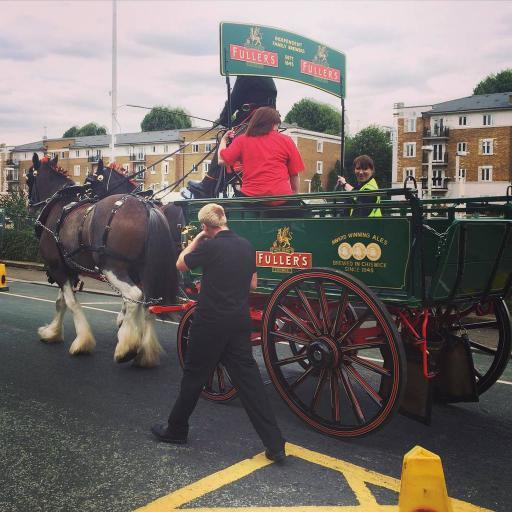Horse: (27, 152, 182, 371), (85, 157, 160, 200)
